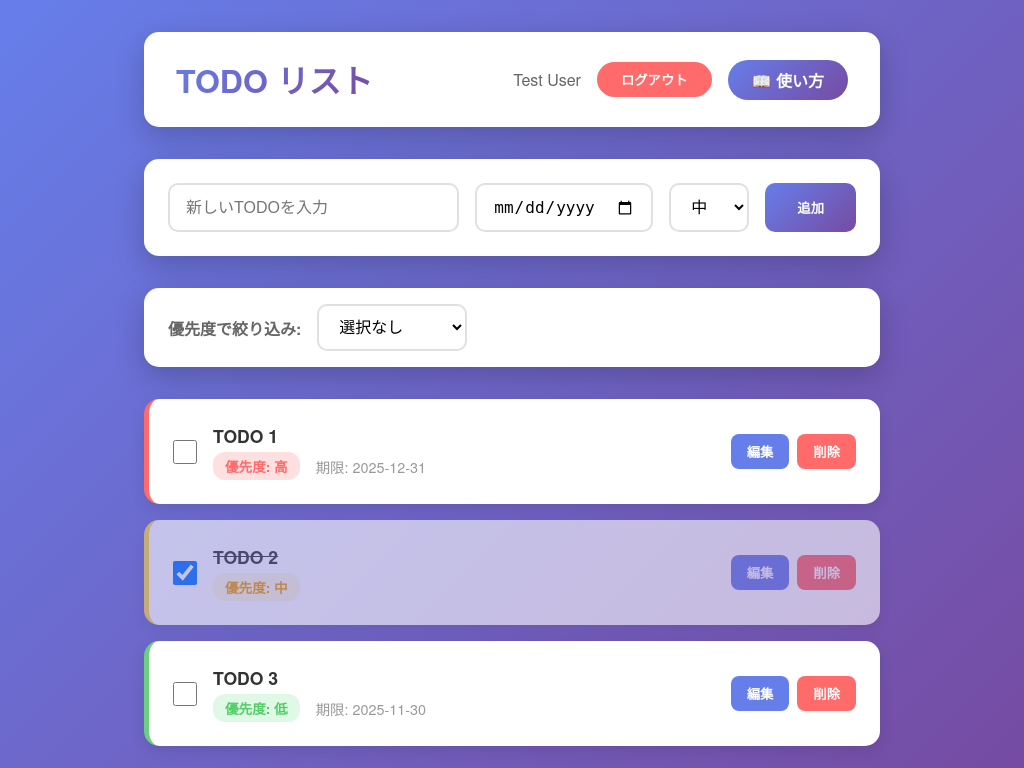
Test: Todos › 優先度フィルターで「高」を選択すると優先度が高のTODOのみ表示される
Expected: the heading "TODO 1" is shown, x1=213 y1=423 x2=278 y2=448
Expected: the heading "TODO 2" is shown, x1=213 y1=544 x2=278 y2=569
Select "高" in the dropdown labelled "優先度で絞り込み:" at (392, 328), box x1=317 y1=304 x2=467 y2=351
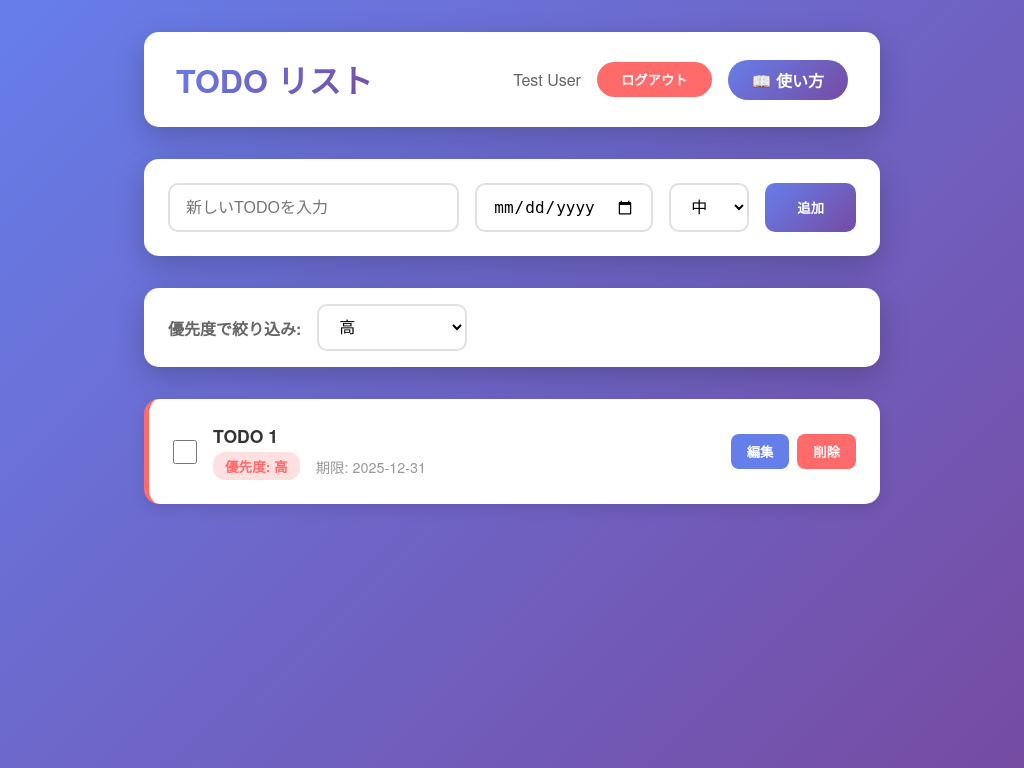
Expected: the heading "TODO 1" is shown, x1=213 y1=423 x2=278 y2=448
Expected: the heading "TODO 2" is gone
Expected: the heading "TODO 3" is gone
